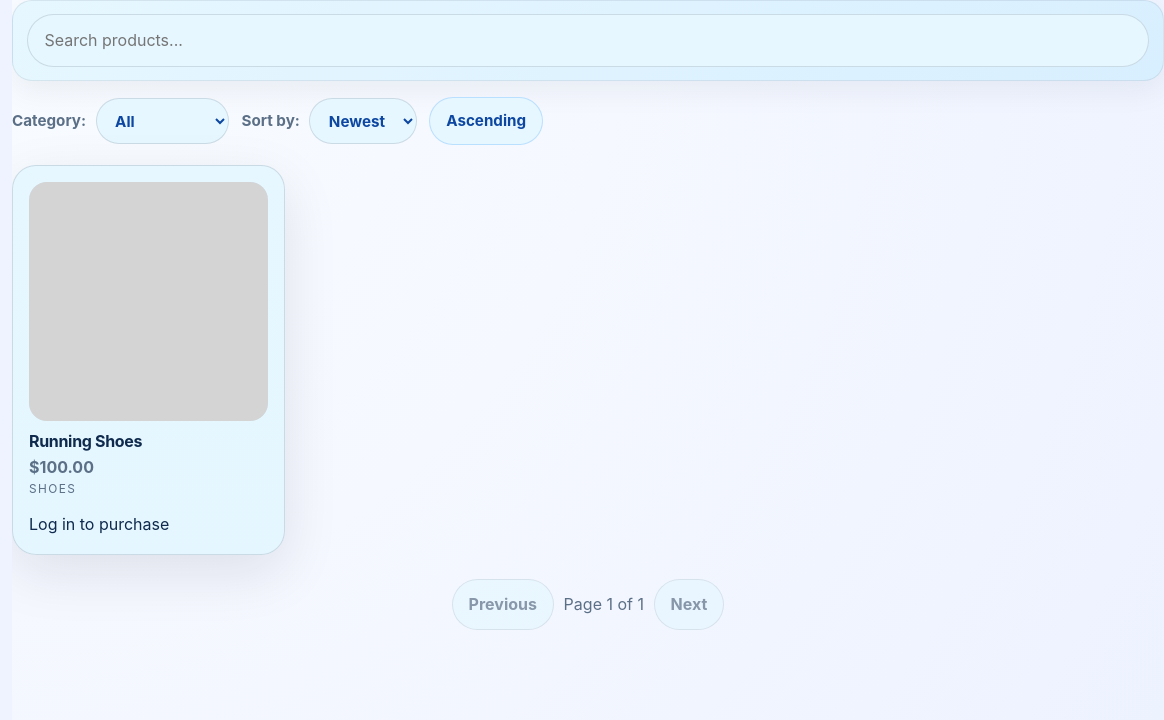
Scenario: ProductList › toggles sort direction when the sort button is clicked
Check: the heading "Running Shoes" is shown, box [29,431,142,451]
Click the button "Ascending" at coordinates (486, 121), box [429,97,543,146]
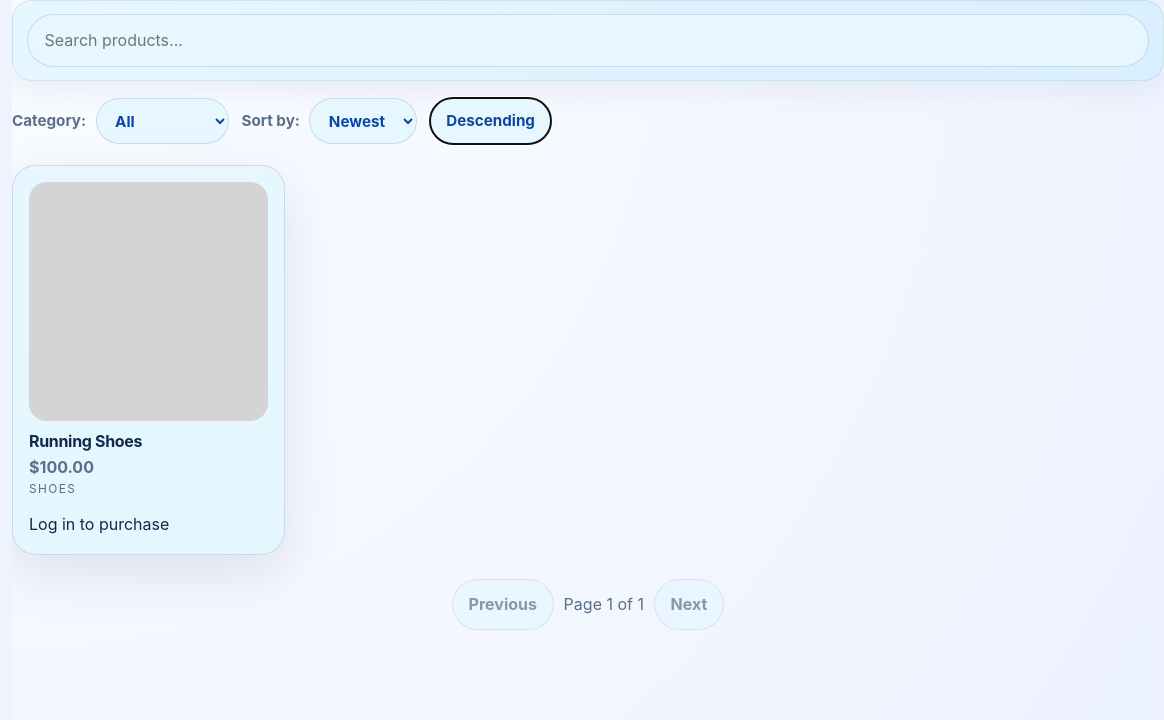
Check: the button "Descending" is shown, box [429,97,552,146]
